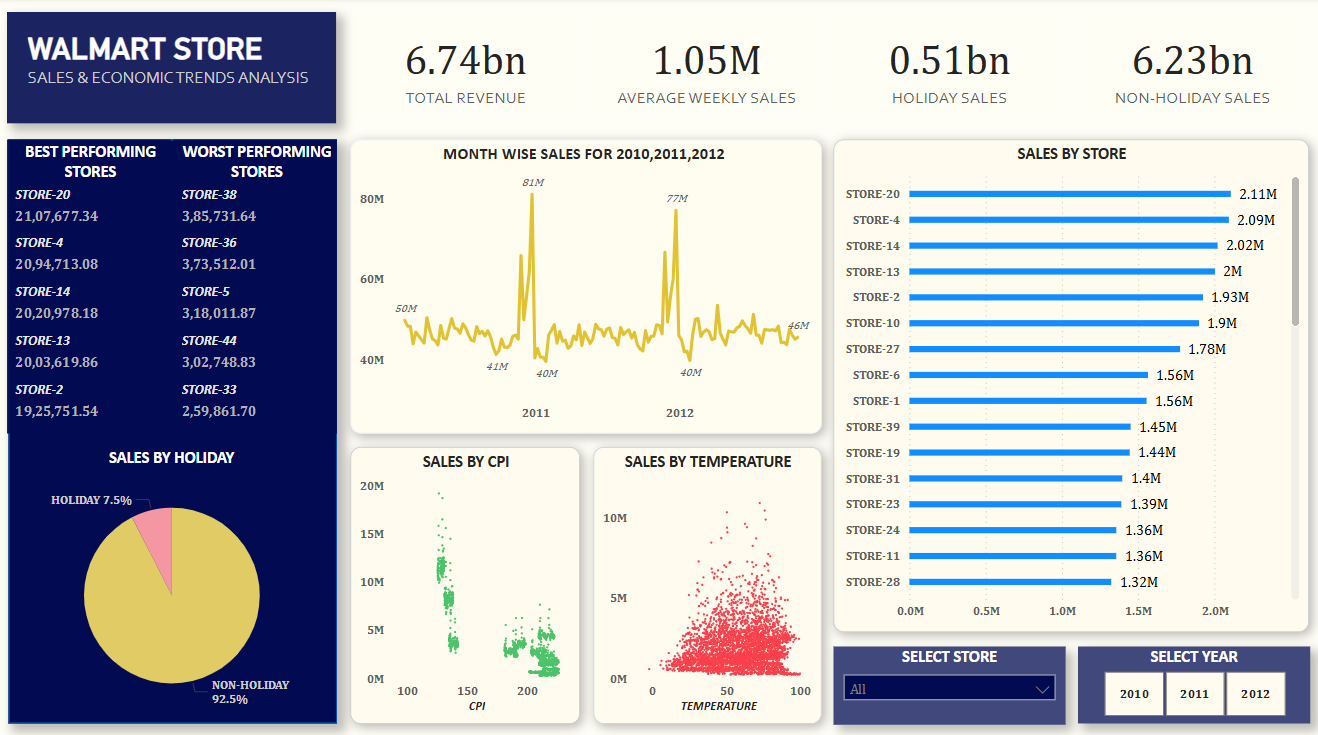

What the dashboard file says about the page in this screenshot:
{"tool":"powerbi","page":{"name":"Page 1","canvas":[1280,720],"ordinal":0},"visuals":[{"type":"shape","box":[9.7,137.6,319,566.7],"z":0},{"type":"textbox","title":"WALMART STORE","box":[9.4,15.1,319.4,107.7],"z":1000},{"type":"card","fields":{"Values":["Sum(WALLMART_2.WEEKLY_SALES)"]},"box":[342,15.1,223,107.7],"z":2000},{"type":"card","fields":{"Values":["Avg(WALLMART_2.WEEKLY_SALES)"]},"box":[578.3,15.1,219.2,107.7],"z":3000},{"type":"card","fields":{"Values":["WALLMART_2.HOLIDAY_SALES"]},"box":[810.7,15.1,224.9,107.7],"z":4000},{"type":"card","fields":{"Values":["WALLMART_2.NON_HOLIDAY_SALES"]},"box":[1046.9,15.1,224.9,107.7],"z":5000},{"type":"multiRowCard","title":"BEST PERFORMING STORES","fields":{"Values":["Avg(WALMART_2.WEEKLY_SALES)","Sum(WALLMART_2.STORE)"]},"box":[9.4,138,158.7,285.4],"z":6000},{"type":"multiRowCard","title":"WORST PERFORMING STORES","fields":{"Values":["Avg(WALMART_2.WEEKLY_SALES)","Sum(WALLMART_2.STORE)"]},"box":[170.1,138,158.7,285.4],"z":7000},{"type":"lineChart","fields":{"Y":["Sum(WALMART_2.WEEKLY_SALES)"],"Category":["WALMART_2.DATE.Variation.Date Hierarchy.Year","WALMART_2.DATE.Variation.Date Hierarchy.Quarter","WALMART_2.DATE.Variation.Date Hierarchy.Month","WALMART_2.DATE.Variation.Date Hierarchy.Day"]},"box":[342,138,457.3,285.4],"z":8000},{"type":"slicer","title":"SELECT YEAR","fields":{"Values":["WALMART_2.YEAR"]},"box":[1047.6,629.9,225.1,74.5],"z":9000},{"type":"barChart","title":"SALES BY STORE","fields":{"Y":["Avg(WALMART_2.WEEKLY_SALES)"],"Category":["WALMART_2.STORE"]},"box":[811.2,137.6,461.5,477.7],"z":10000},{"type":"pieChart","title":"SALES BY HOLIDAY","fields":{"Y":["Sum(WALMART_2.WEEKLY_SALES)"],"Category":["WALMART_2.HOLIDAY_NAME"]},"box":[9.4,436.5,319.4,268.3],"z":11000},{"type":"scatterChart","title":"SALES BY CPI","fields":{"Y":["Sum(WALMART_2.WEEKLY_SALES)"],"X":["WALMART_2.CPI"]},"box":[342,436.5,223,268.3],"z":12000},{"type":"slicer","title":"SELECT STORE","fields":{"Values":["WALMART_2.STORE"]},"box":[811.2,629.9,225.1,76.1],"z":13000},{"type":"scatterChart","title":"SALES BY TEMPERATURE","fields":{"Y":["Sum(WALMART_2.WEEKLY_SALES)"],"X":["WALMART_2.TEMPERATURE"]},"box":[578.3,436.5,221.1,268.3],"z":14000},{"type":"card","fields":{"Values":["WALMART_2.TITLE_YEARLY_SALES"]},"box":[353,137.6,429.1,29.1],"z":15000}]}

Visuals, with their boxes in screenshot pixels (x1, y1, x2, y2), scaled from the page's 1280x720 canvas onto the 1318x735 screenshot:
shape: <bbox>10, 140, 338, 719</bbox>
"WALMART STORE" textbox: <bbox>10, 15, 339, 125</bbox>
card - Sum(WALLMART_2.WEEKLY_SALES): <bbox>352, 15, 582, 125</bbox>
card - Avg(WALLMART_2.WEEKLY_SALES): <bbox>595, 15, 821, 125</bbox>
card - WALLMART_2.HOLIDAY_SALES: <bbox>835, 15, 1066, 125</bbox>
card - WALLMART_2.NON_HOLIDAY_SALES: <bbox>1078, 15, 1310, 125</bbox>
"BEST PERFORMING STORES" multiRowCard: <bbox>10, 141, 173, 432</bbox>
"WORST PERFORMING STORES" multiRowCard: <bbox>175, 141, 339, 432</bbox>
lineChart - Sum(WALMART_2.WEEKLY_SALES) x WALMART_2.DATE.Variation.Date Hierarchy.Year: <bbox>352, 141, 823, 432</bbox>
"SELECT YEAR" slicer: <bbox>1079, 643, 1310, 719</bbox>
"SALES BY STORE" barChart: <bbox>835, 140, 1310, 628</bbox>
"SALES BY HOLIDAY" pieChart: <bbox>10, 446, 339, 719</bbox>
"SALES BY CPI" scatterChart: <bbox>352, 446, 582, 719</bbox>
"SELECT STORE" slicer: <bbox>835, 643, 1067, 721</bbox>
"SALES BY TEMPERATURE" scatterChart: <bbox>595, 446, 823, 719</bbox>
card - WALMART_2.TITLE_YEARLY_SALES: <bbox>363, 140, 805, 170</bbox>
